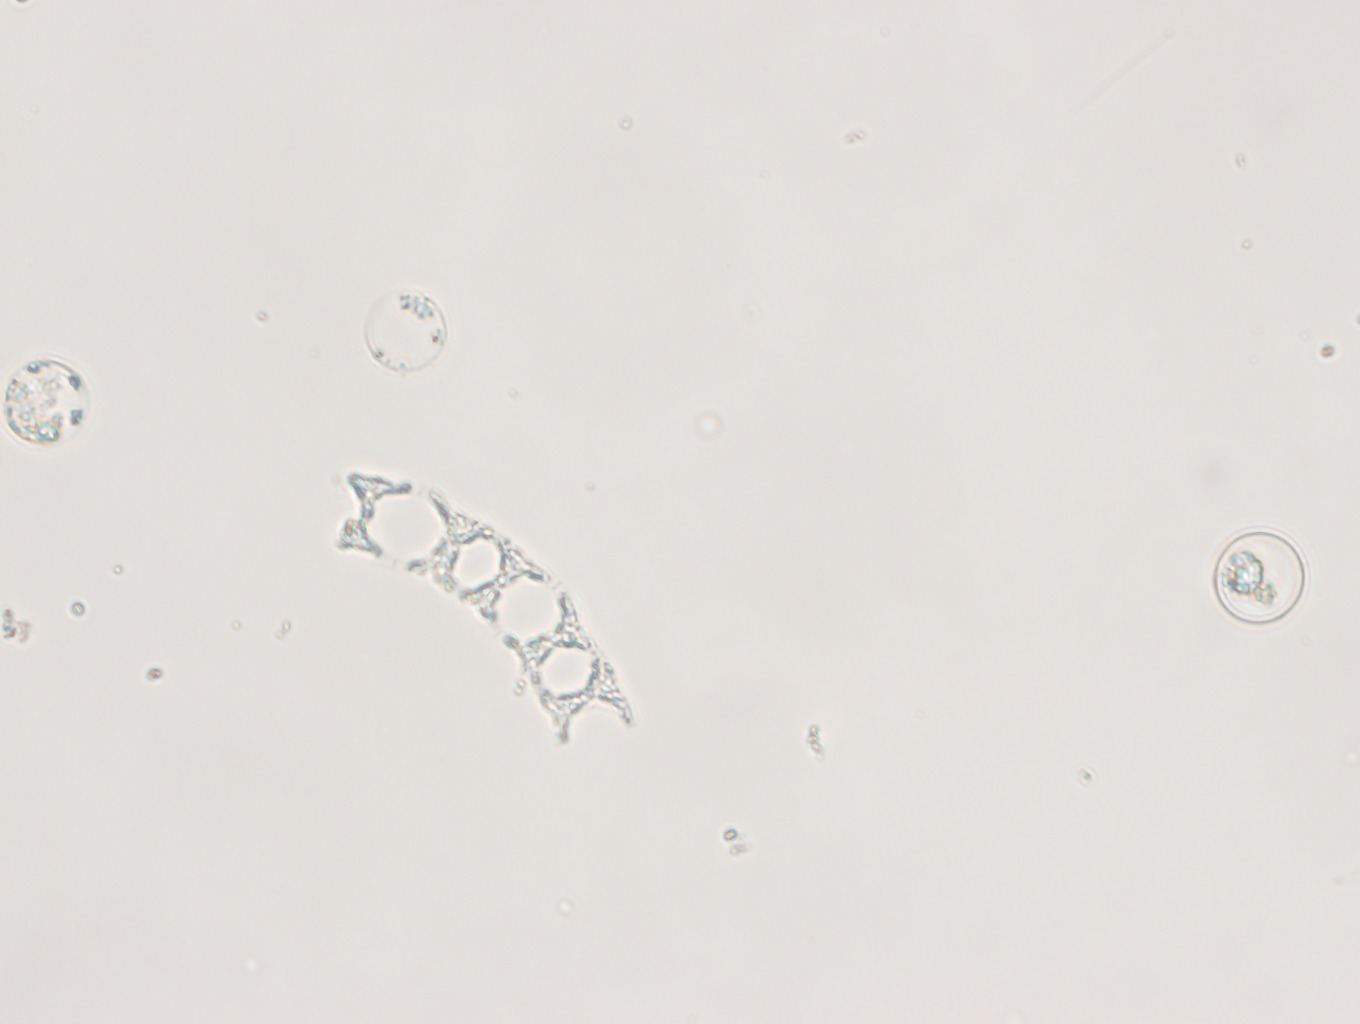eucampia: (327, 461, 647, 759)
